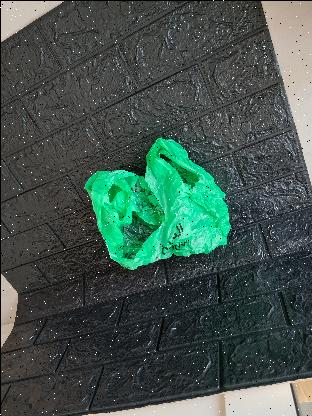Others: (86, 145, 232, 269)
